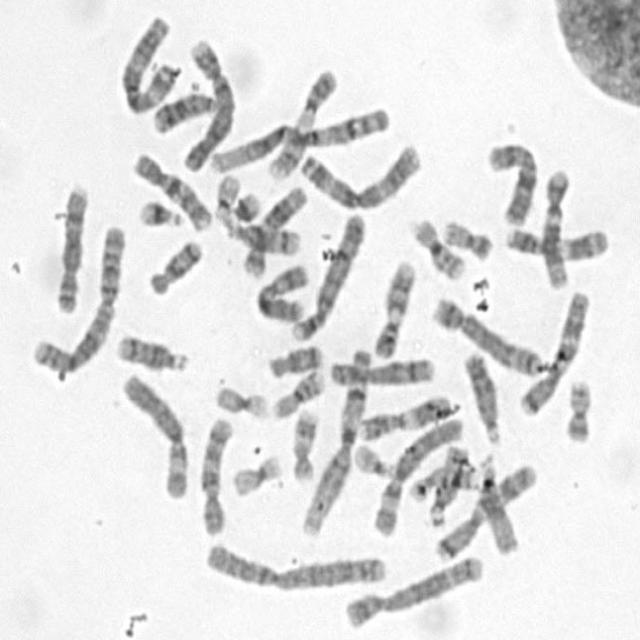A1: (297, 340, 373, 540), (205, 99, 392, 175)
A2: (28, 218, 127, 375), (200, 535, 392, 594)
A3: (297, 136, 424, 212), (117, 7, 183, 114)
B4: (287, 207, 368, 344), (178, 33, 236, 172)
B5: (341, 548, 488, 630), (428, 290, 546, 378)
C10: (129, 147, 213, 233), (195, 410, 235, 538)
C11: (356, 388, 458, 442), (500, 219, 610, 261)
C12: (239, 180, 309, 278), (537, 162, 572, 290)
C6: (369, 411, 466, 538), (116, 367, 191, 501)
C7: (430, 458, 538, 562), (514, 284, 591, 418)
C8: (51, 178, 91, 316), (323, 351, 436, 388)
C9: (264, 61, 340, 184), (369, 253, 419, 360)
D13: (458, 345, 505, 446), (149, 86, 221, 135)
D14: (111, 328, 191, 374), (221, 218, 301, 258)
D15: (473, 448, 523, 556), (424, 440, 472, 531)
E16: (407, 212, 468, 281), (269, 364, 327, 420)
E17: (406, 460, 484, 504), (288, 404, 321, 484)
E18: (144, 233, 206, 296), (264, 339, 326, 379)
F19: (227, 448, 285, 498), (211, 379, 271, 420)
F20: (438, 213, 496, 262), (561, 373, 595, 445)
G21: (133, 193, 187, 229), (226, 186, 264, 225)
G22: (350, 436, 397, 479), (210, 167, 242, 224)
X: (483, 135, 541, 227), (251, 258, 310, 324)
